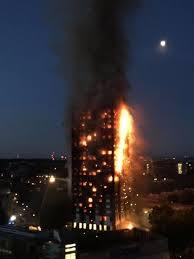fire: (72, 92, 147, 183)
